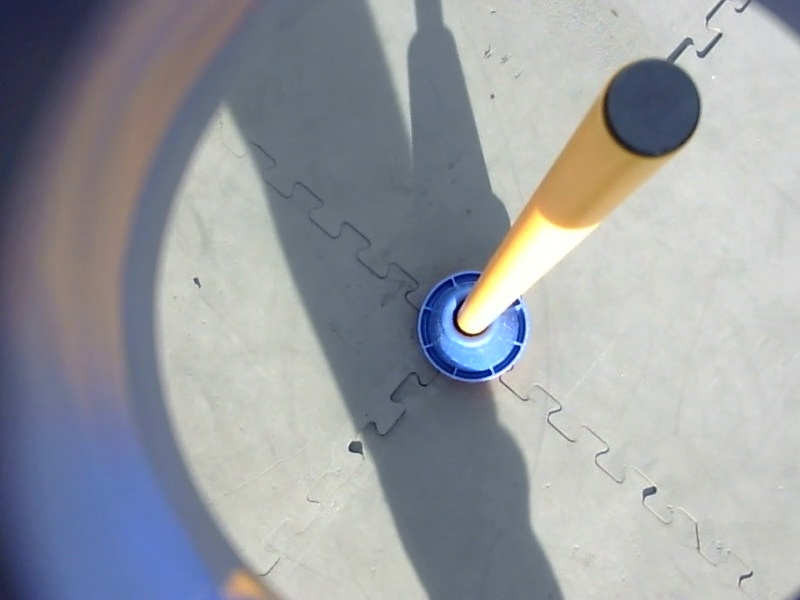tip: (591, 53, 709, 164)
